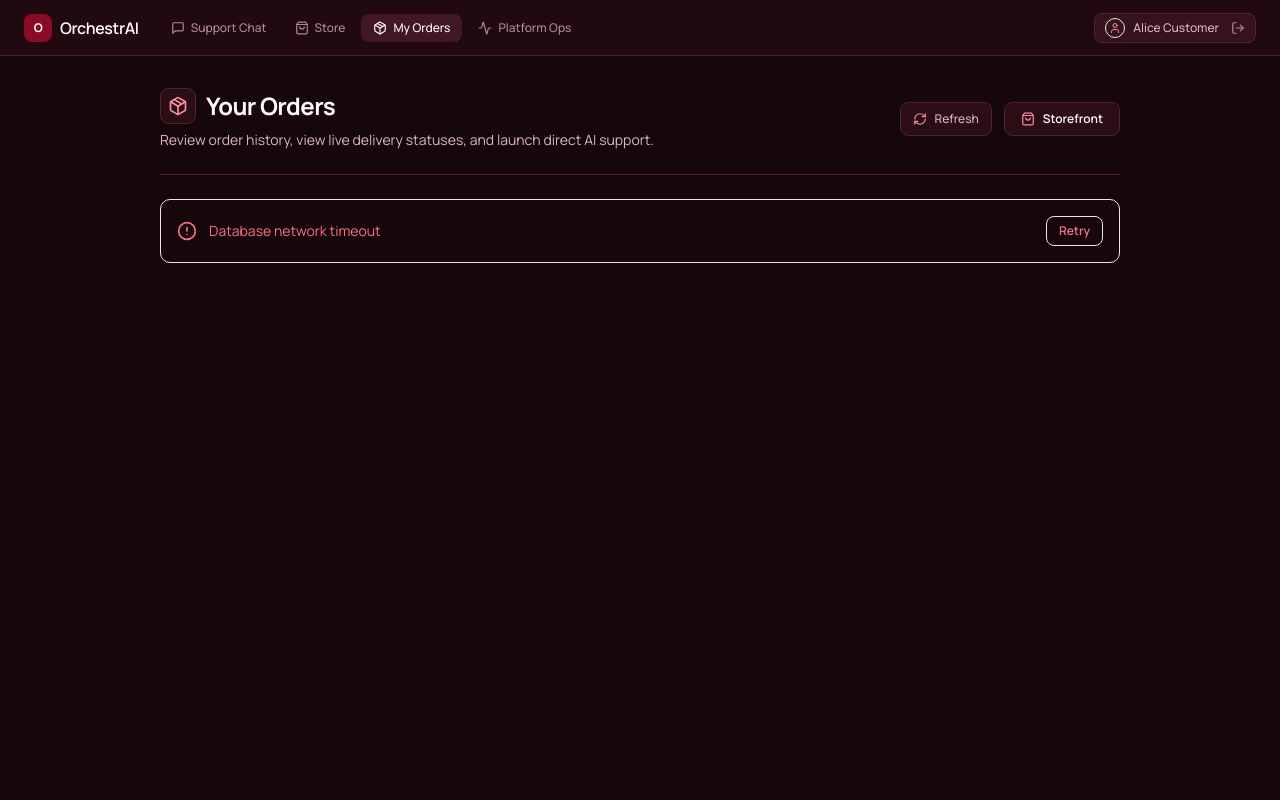
Test case: OrdersPage › displays error message and allows retry when fetch fails
Expected: the text "Database network timeout" is shown, [209, 221, 381, 241]
Click the button "Retry" at (1074, 231), box [1046, 216, 1103, 246]
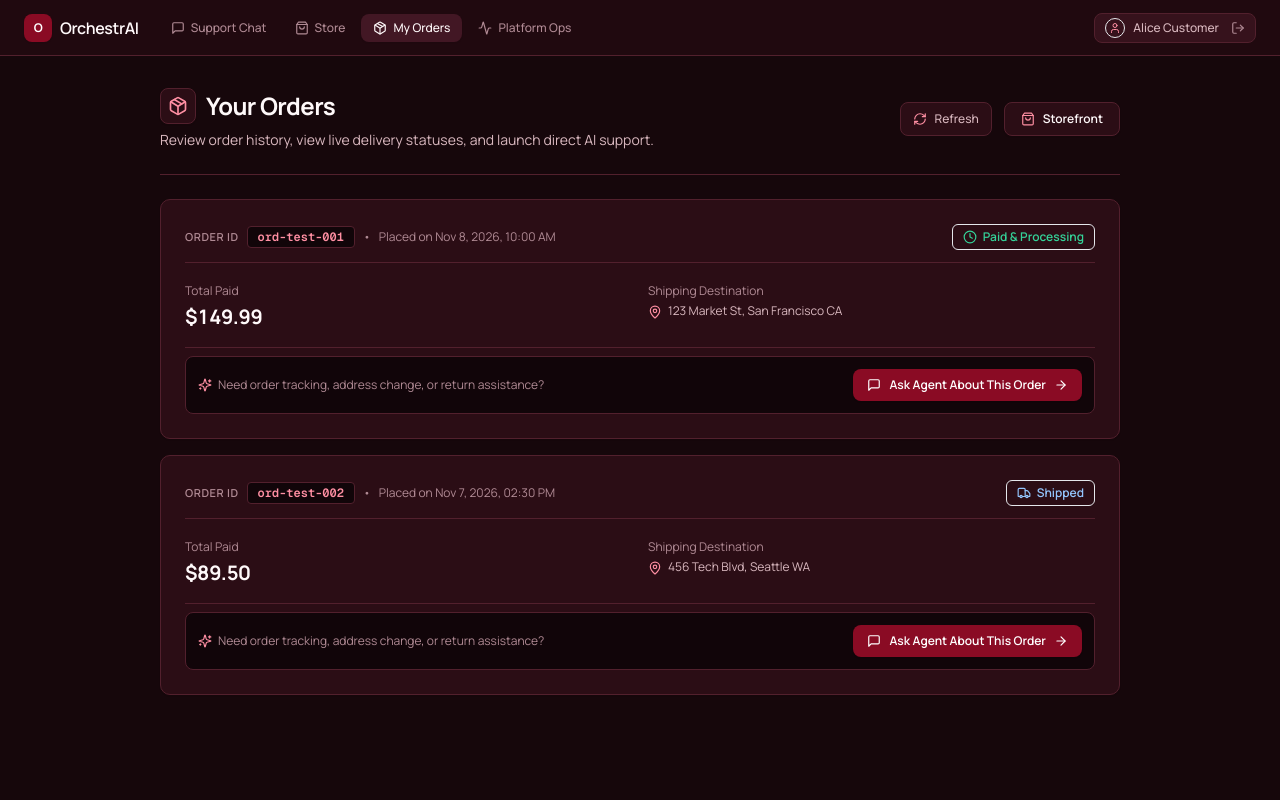
Expected: the text "ord-test-001" is shown, [246, 226, 355, 248]
